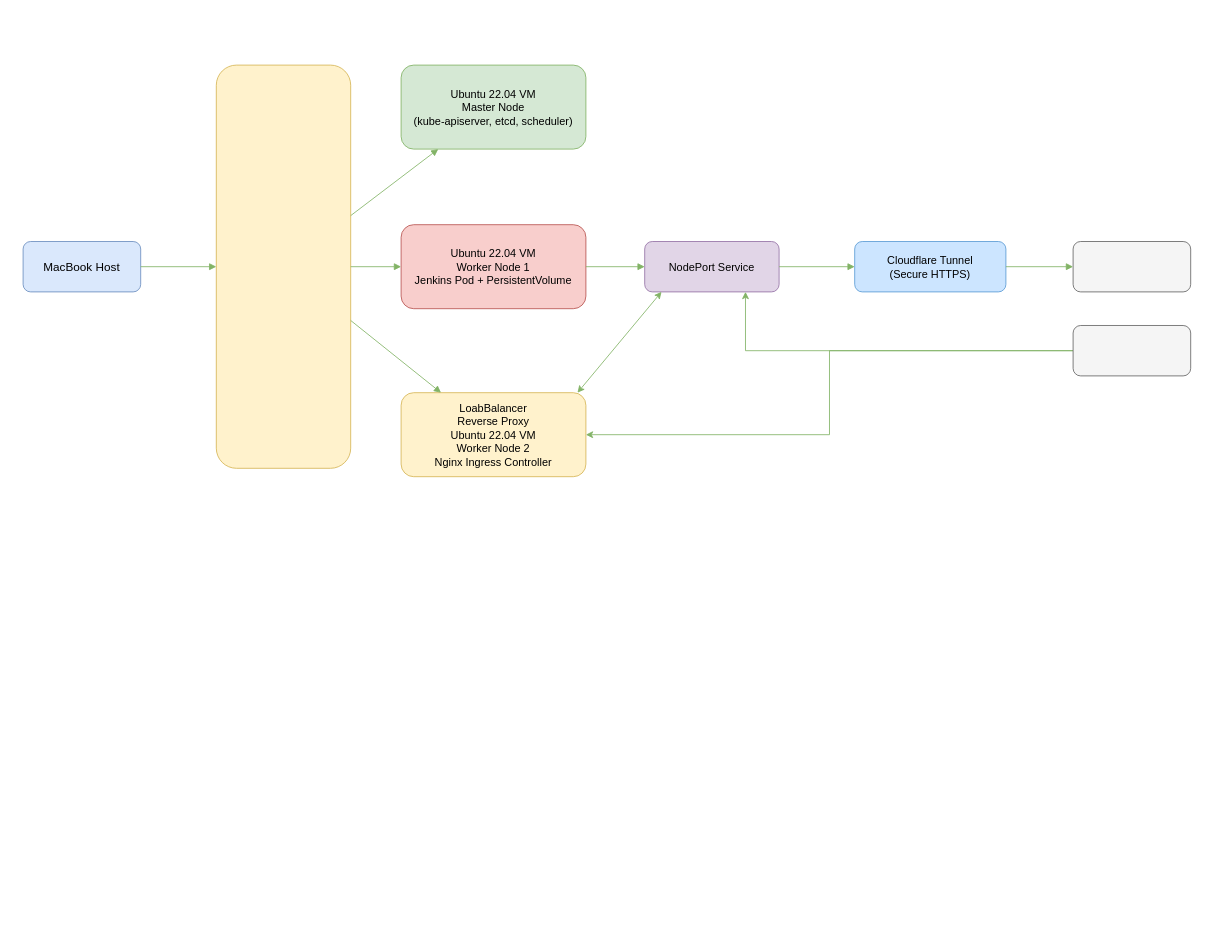
This 1205x944 diagram has some shape labels left out. The centre of each missing label's shape, as x and y in pixels:
"Internal Users" belongs at (x=1131, y=350).
"Internet Users" belongs at (x=1131, y=266).
"VMware Fusion" belongs at (x=283, y=266).
